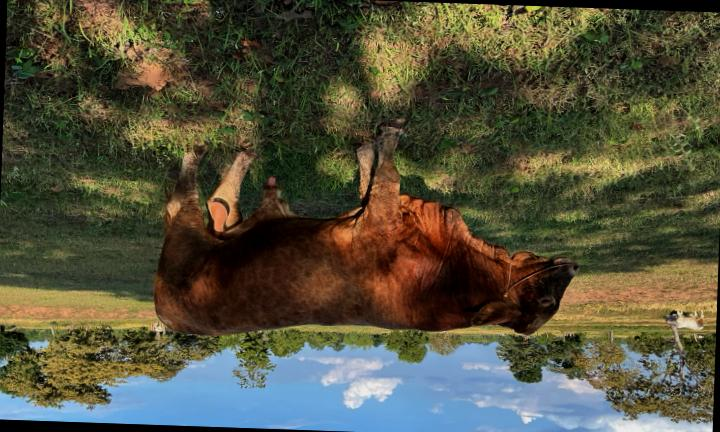Charolais: (154, 120, 579, 335)
